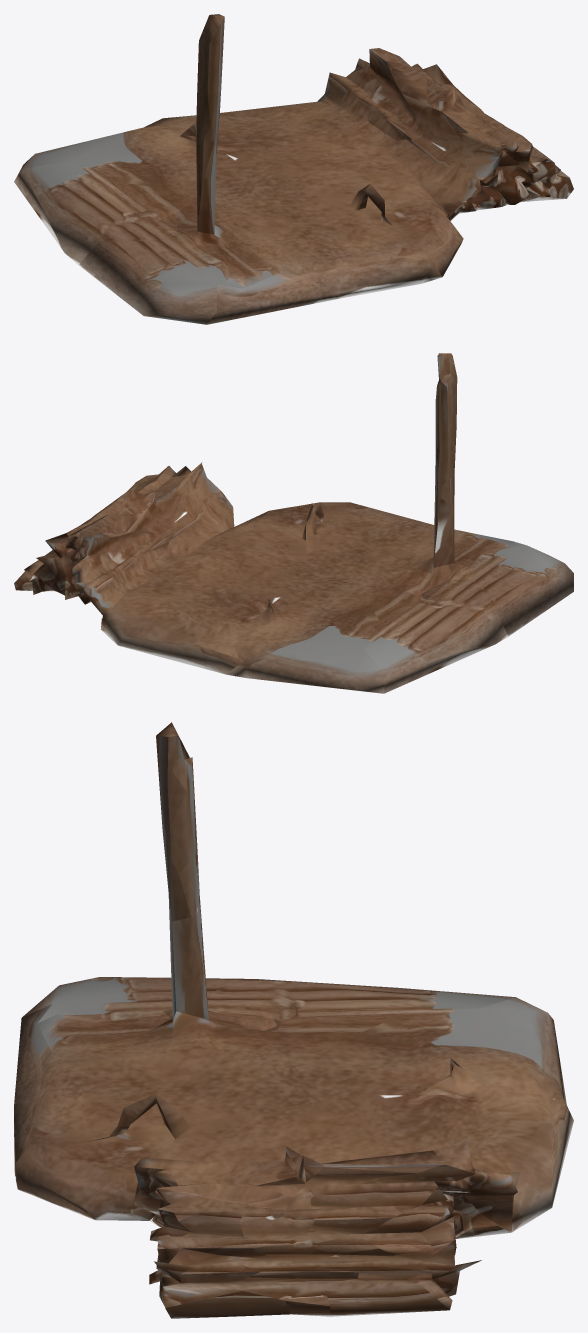
File: ConstructionSite.glb
The picture shows the model from 3 angles, top to bottom: view 1: azimuth 30°, elevation 25°; view 2: azimuth 150°, elevation 25°; view 3: azimuth 270°, elevation 25°; orthographic projection. The views are drawn at different scales.
Visible parts, largest first — view 1: ConstructionSite; view 2: ConstructionSite; view 3: ConstructionSite.
Boxes of the visible parts, box(x1,y1,x2,y2) form: ConstructionSite: box(14, 14, 573, 324); ConstructionSite: box(14, 353, 573, 693); ConstructionSite: box(14, 722, 573, 1318).
Size of the model in its own units: 0.992 by 0.5582 by 0.7805.
Materials: 1 (1 with a texture image).
